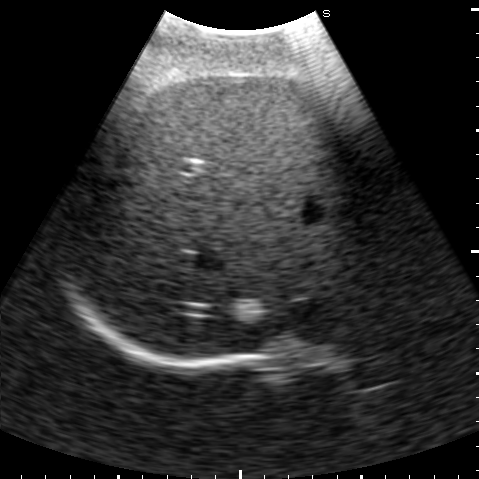S5: (132, 74, 332, 176)
S7: (69, 146, 169, 300)
S8: (126, 162, 374, 358)
Tumor: (230, 298, 266, 322)
